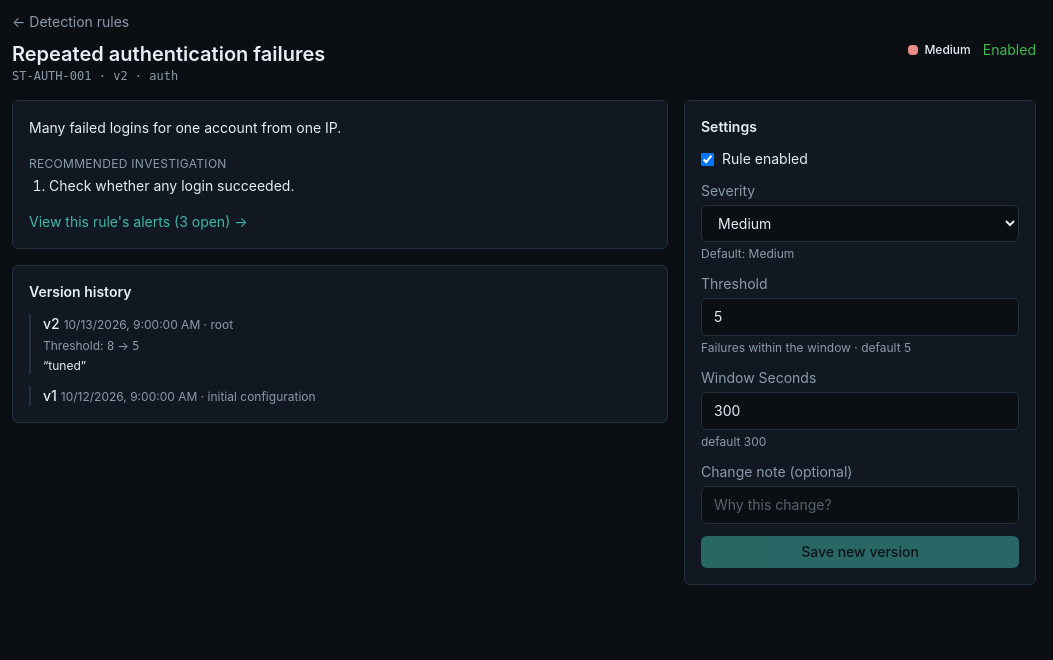
Test: RuleDetailPage › saves a new version with typed config values
This screenshot has width=1053, height=660.
Expected: the button "Save new version" is disabled, [701,536,1019,568]
Replace the text in the number field labelled "Threshold Failures within the window · default 5" with "10" at (860, 317), box [701,298,1019,336]
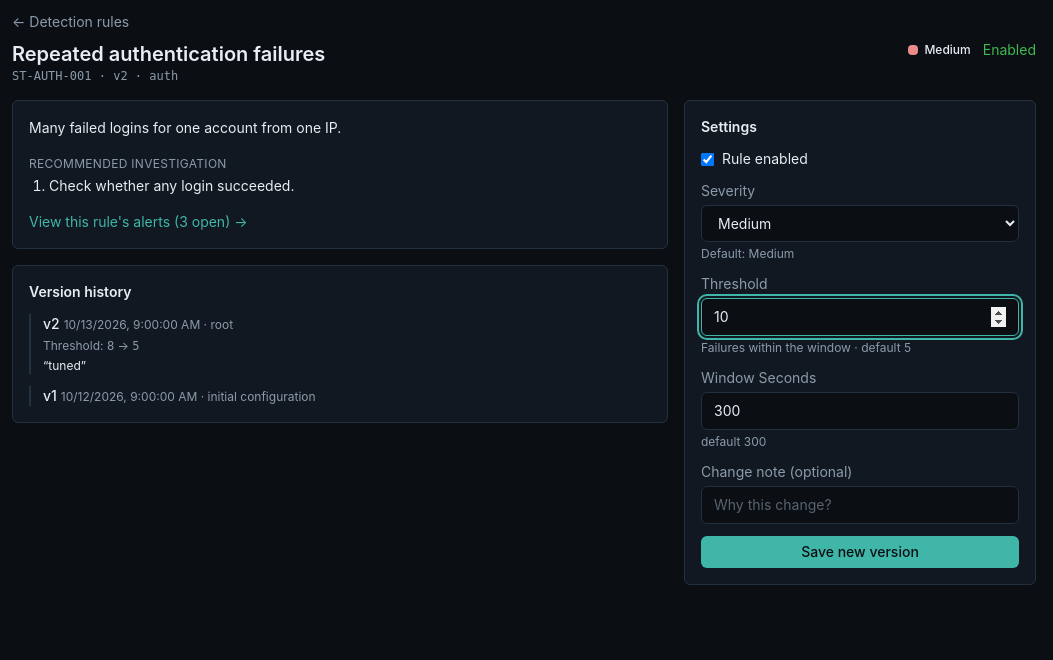
Select "High" in the dropdown labelled "Severity Default: Medium" at (860, 224), box [701,205,1019,242]
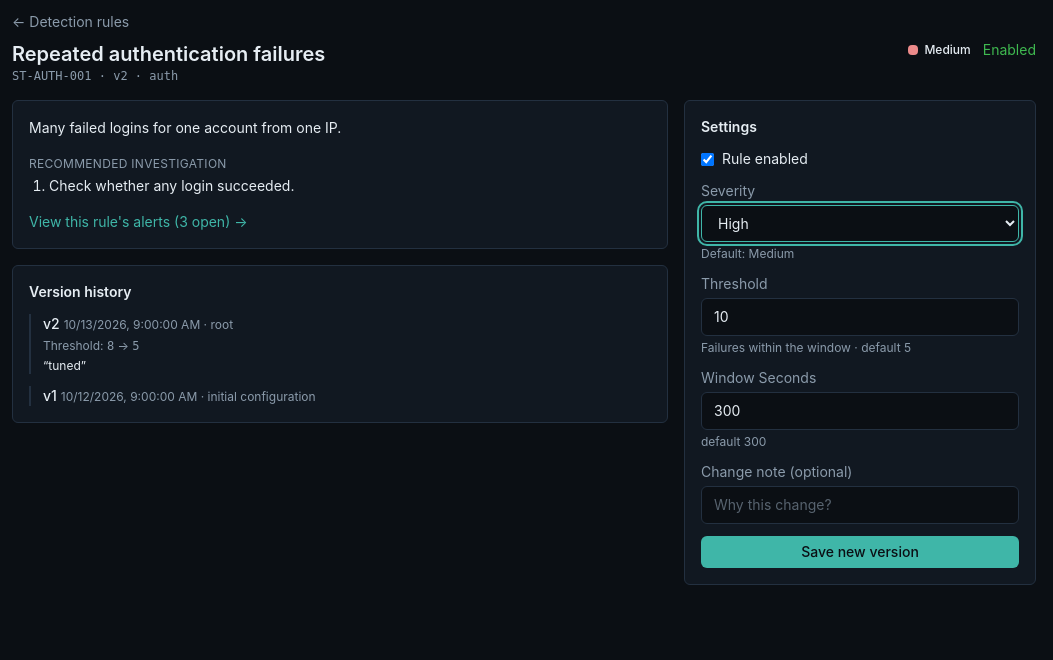
Type "fewer false positives" into the field labelled "Change note (optional)".
click(860, 505); type("fewer false positives")  # box [701,486,1019,524]
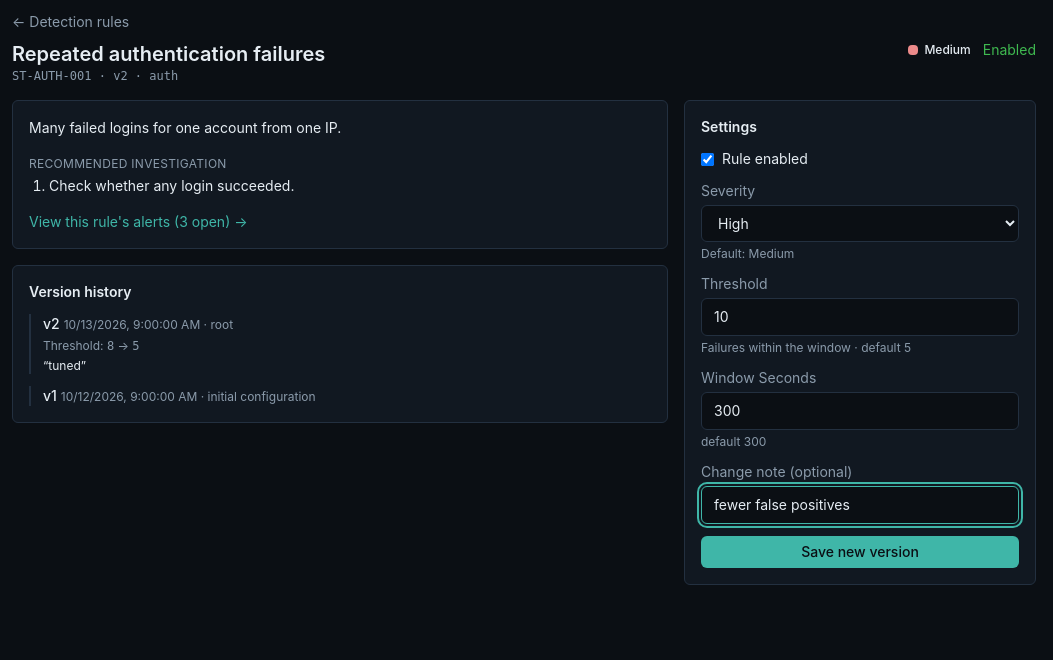
Click the button "Save new version".
click(860, 552)  # box [701,536,1019,568]
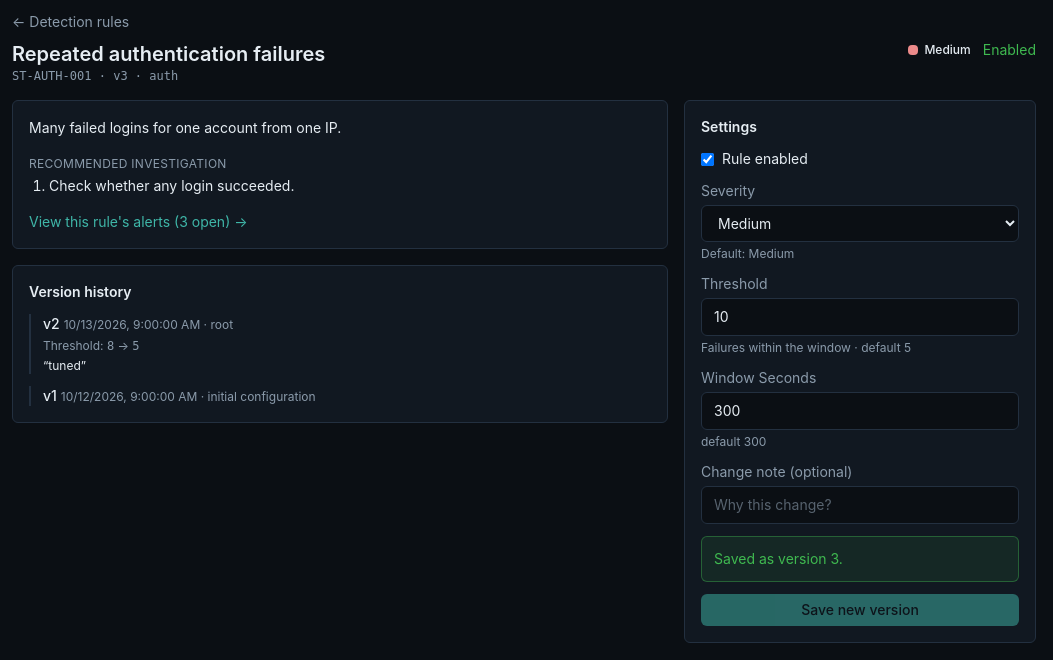
Result: the text "Saved as version 3." is shown at [701,536,1019,582]
